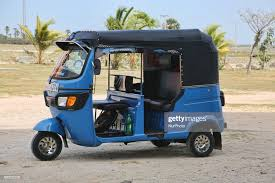tuk tuk: (28, 29, 226, 163)
